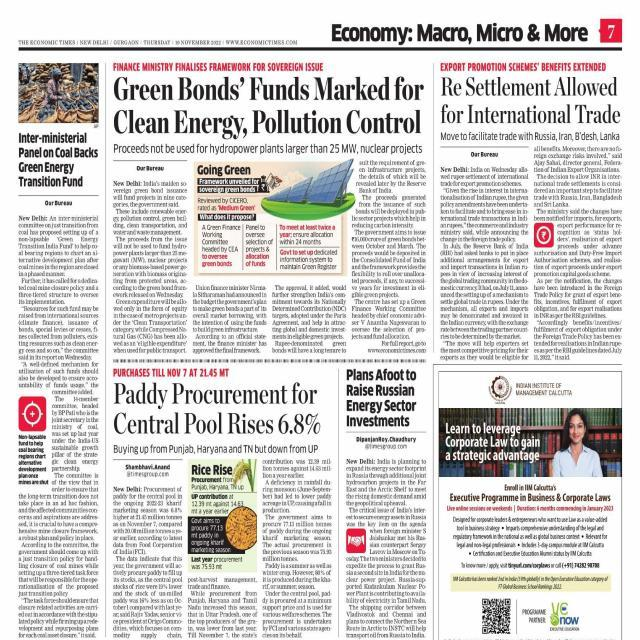Article: (110, 59, 428, 356), (110, 365, 335, 640), (436, 58, 626, 364), (15, 57, 102, 640), (343, 363, 432, 640)
Body: (533, 145, 624, 362), (438, 166, 530, 362), (346, 457, 427, 640), (19, 214, 100, 389), (352, 158, 426, 340), (113, 180, 188, 354), (262, 457, 333, 640), (18, 493, 98, 640), (113, 485, 183, 640), (192, 284, 268, 355), (272, 284, 347, 354), (52, 390, 100, 492), (187, 575, 257, 640)
Date: (143, 39, 222, 45)
Heading: (113, 75, 426, 140), (112, 382, 322, 435), (440, 74, 620, 124), (18, 132, 98, 187), (345, 367, 418, 427)
Highlights: (111, 142, 424, 156), (440, 129, 622, 143), (112, 442, 318, 454), (202, 224, 241, 268), (18, 434, 50, 486), (280, 223, 336, 246), (280, 249, 338, 271), (246, 224, 274, 268), (197, 196, 255, 212), (198, 164, 252, 178)
Image: (439, 372, 622, 640), (188, 458, 260, 572), (266, 158, 350, 222), (18, 62, 98, 122)
Name: (331, 22, 588, 46), (18, 39, 76, 46)
